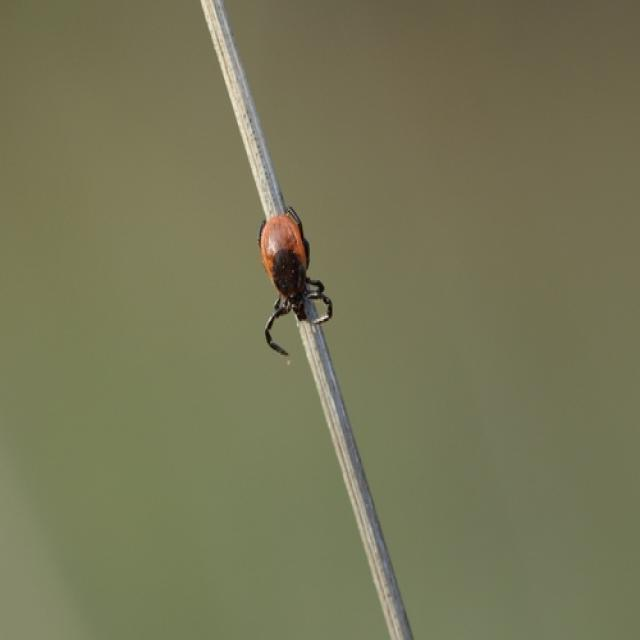Ixodes Ricinus-F: (257, 207, 333, 358)
